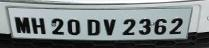0: (67, 19, 81, 36)
2: (51, 17, 66, 36), (169, 17, 183, 35), (122, 18, 136, 35)
3: (138, 18, 152, 35)
6: (153, 18, 167, 35)
D: (86, 19, 102, 36)
H: (31, 16, 47, 35)
M: (14, 15, 32, 34)
V: (102, 18, 117, 37)
